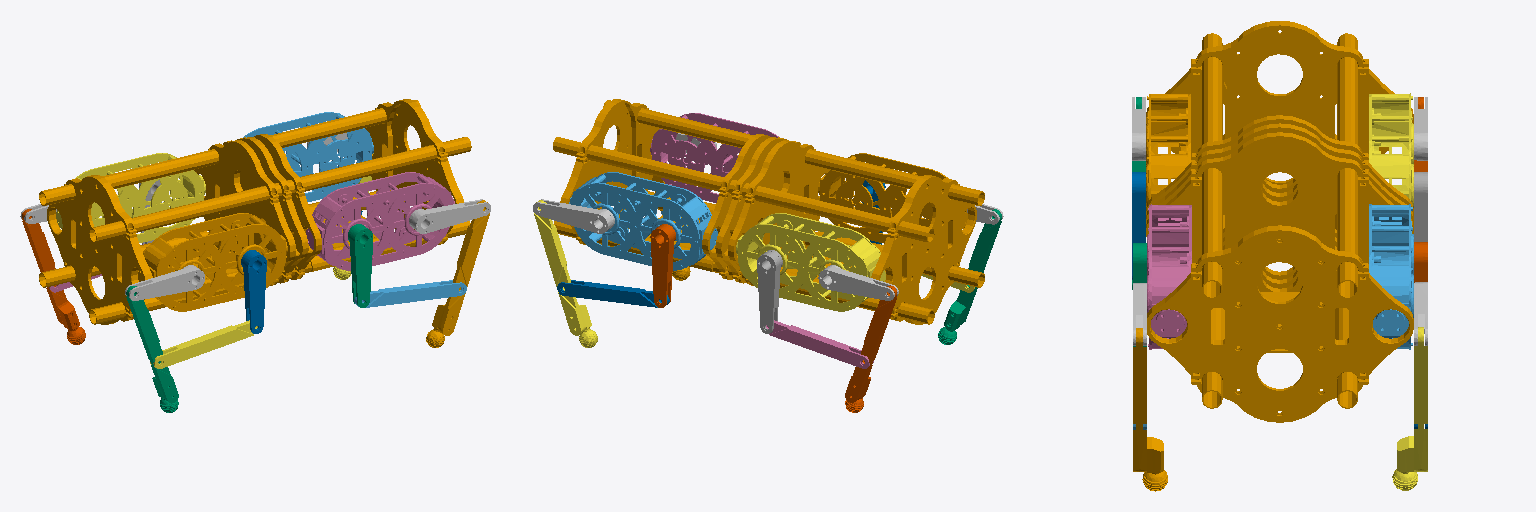
The robot description file, URDF, robot "quadson":
<robot name="quadson" version="1.0">
  <joint name="fl_joint0" type="revolute">
    <limit lower="-3.14000" upper="3.14000" effort="0.00000" velocity="0.00000"/>
    <origin rpy="-0.00000 1.57080 0.00000" xyz="0.20500 0.09541 0.00215"/>
    <parent link="base_link"/>
    <child link="fl_link0"/>
    <axis xyz="0.00000 0.00000 1.00000"/>
  </joint>
  <joint name="fl_joint1" type="revolute">
    <limit lower="-3.14000" upper="3.14000" effort="0.00000" velocity="0.00000"/>
    <origin rpy="-1.57080 -1.57080 0.00000" xyz="-0.00026 0.01767 -0.05190"/>
    <parent link="fl_link0"/>
    <child link="fl_link1"/>
    <axis xyz="0.00000 0.00000 1.00000"/>
  </joint>
  <joint name="fl_joint2" type="revolute">
    <limit lower="-3.14000" upper="3.14000" effort="0.00000" velocity="0.00000"/>
    <origin rpy="-0.00000 0.00000 0.00000" xyz="0.07999 0.00001 0.00825"/>
    <parent link="fl_link1"/>
    <child link="fl_link2"/>
    <axis xyz="0.00000 0.00000 1.00000"/>
  </joint>
  <joint name="fl_joint4" type="revolute">
    <limit lower="-3.14000" upper="3.14000" effort="0.00000" velocity="0.00000"/>
    <origin rpy="-0.00000 0.00000 0.00000" xyz="-0.00001 0.07999 0.00825"/>
    <parent link="fl_link5"/>
    <child link="fl_link4"/>
    <axis xyz="0.00000 0.00000 1.00000"/>
  </joint>
  <joint name="fl_joint5" type="revolute">
    <limit lower="-3.14000" upper="3.14000" effort="0.00000" velocity="0.00000"/>
    <origin rpy="-1.57080 -1.57080 0.00000" xyz="-0.00023 0.01767 -0.13390"/>
    <parent link="fl_link0"/>
    <child link="fl_link5"/>
    <axis xyz="0.00000 0.00000 1.00000"/>
  </joint>
  <joint name="fr_joint0" type="revolute">
    <limit lower="-3.14000" upper="3.14000" effort="0.00000" velocity="0.00000"/>
    <origin rpy="-0.00000 1.57080 0.00000" xyz="0.20500 -0.09380 0.00162"/>
    <parent link="base_link"/>
    <child link="fr_link0"/>
    <axis xyz="0.00000 0.00000 1.00000"/>
  </joint>
  <joint name="fr_joint1" type="revolute">
    <limit lower="-3.14000" upper="3.14000" effort="0.00000" velocity="0.00000"/>
    <origin rpy="-1.57080 -1.57080 0.00000" xyz="-0.00026 -0.01767 -0.05190"/>
    <parent link="fr_link0"/>
    <child link="fr_link1"/>
    <axis xyz="0.00000 0.00000 1.00000"/>
  </joint>
  <joint name="fr_joint2" type="revolute">
    <limit lower="-3.14000" upper="3.14000" effort="0.00000" velocity="0.00000"/>
    <origin rpy="-0.00000 0.00000 0.00000" xyz="0.07999 0.00001 -0.00825"/>
    <parent link="fr_link1"/>
    <child link="fr_link2"/>
    <axis xyz="0.00000 0.00000 1.00000"/>
  </joint>
  <joint name="fr_joint4" type="revolute">
    <limit lower="-3.14000" upper="3.14000" effort="0.00000" velocity="0.00000"/>
    <origin rpy="-0.00000 0.00000 0.00000" xyz="-0.00001 0.07999 -0.00825"/>
    <parent link="fr_link5"/>
    <child link="fr_link4"/>
    <axis xyz="0.00000 0.00000 1.00000"/>
  </joint>
  <joint name="fr_joint5" type="revolute">
    <limit lower="-3.14000" upper="3.14000" effort="0.00000" velocity="0.00000"/>
    <origin rpy="-1.57080 -1.57080 0.00000" xyz="-0.00023 -0.01767 -0.13390"/>
    <parent link="fr_link0"/>
    <child link="fr_link5"/>
    <axis xyz="0.00000 0.00000 1.00000"/>
  </joint>
  <joint name="rl_joint0" type="revolute">
    <limit lower="-3.14000" upper="3.14000" effort="0.00000" velocity="0.00000"/>
    <origin rpy="0.00000 -1.57080 0.00000" xyz="-0.20500 0.09541 0.00215"/>
    <parent link="base_link"/>
    <child link="rl_link0"/>
    <axis xyz="0.00000 0.00000 1.00000"/>
  </joint>
  <joint name="rl_joint1" type="revolute">
    <limit lower="-3.14000" upper="3.14000" effort="0.00000" velocity="0.00000"/>
    <origin rpy="1.57080 1.57080 0.00000" xyz="0.00026 0.01767 -0.05190"/>
    <parent link="rl_link0"/>
    <child link="rl_link1"/>
    <axis xyz="0.00000 0.00000 1.00000"/>
  </joint>
  <joint name="rl_joint2" type="revolute">
    <limit lower="-3.14000" upper="3.14000" effort="0.00000" velocity="0.00000"/>
    <origin rpy="0.00000 0.00000 -0.00000" xyz="-0.07999 -0.00001 -0.00825"/>
    <parent link="rl_link1"/>
    <child link="rl_link2"/>
    <axis xyz="0.00000 0.00000 1.00000"/>
  </joint>
  <joint name="rl_joint4" type="revolute">
    <limit lower="-3.14000" upper="3.14000" effort="0.00000" velocity="0.00000"/>
    <origin rpy="0.00000 0.00000 0.00000" xyz="0.00001 -0.07999 -0.00825"/>
    <parent link="rl_link5"/>
    <child link="rl_link4"/>
    <axis xyz="0.00000 0.00000 1.00000"/>
  </joint>
  <joint name="rl_joint5" type="revolute">
    <limit lower="-3.14000" upper="3.14000" effort="0.00000" velocity="0.00000"/>
    <origin rpy="1.57080 1.57080 0.00000" xyz="0.00023 0.01767 -0.13390"/>
    <parent link="rl_link0"/>
    <child link="rl_link5"/>
    <axis xyz="0.00000 0.00000 1.00000"/>
  </joint>
  <joint name="rr_joint0" type="revolute">
    <limit lower="-3.14000" upper="3.14000" effort="0.00000" velocity="0.00000"/>
    <origin rpy="0.00000 -1.57080 0.00000" xyz="-0.20500 -0.09459 0.00215"/>
    <parent link="base_link"/>
    <child link="rr_link0"/>
    <axis xyz="0.00000 0.00000 1.00000"/>
  </joint>
  <joint name="rr_joint1" type="revolute">
    <limit lower="-3.14000" upper="3.14000" effort="0.00000" velocity="0.00000"/>
    <origin rpy="1.57080 1.57080 0.00000" xyz="0.00011 -0.01748 -0.05170"/>
    <parent link="rr_link0"/>
    <child link="rr_link1"/>
    <axis xyz="0.00000 0.00000 1.00000"/>
  </joint>
  <joint name="rr_joint2" type="revolute">
    <limit lower="-3.14000" upper="3.14000" effort="0.00000" velocity="0.00000"/>
    <origin rpy="0.00000 0.00000 -0.00000" xyz="-0.07999 -0.00001 0.00825"/>
    <parent link="rr_link1"/>
    <child link="rr_link2"/>
    <axis xyz="0.00000 0.00000 1.00000"/>
  </joint>
  <joint name="rr_joint4" type="revolute">
    <limit lower="-3.14000" upper="3.14000" effort="0.00000" velocity="0.00000"/>
    <origin rpy="0.00000 0.00000 -0.00000" xyz="0.00001 -0.07999 0.00825"/>
    <parent link="rr_link5"/>
    <child link="rr_link4"/>
    <axis xyz="0.00000 0.00000 1.00000"/>
  </joint>
  <joint name="rr_joint5" type="revolute">
    <limit lower="-3.14000" upper="3.14000" effort="0.00000" velocity="0.00000"/>
    <origin rpy="1.57080 1.57080 0.00000" xyz="0.00008 -0.01748 -0.13370"/>
    <parent link="rr_link0"/>
    <child link="rr_link5"/>
    <axis xyz="0.00000 0.00000 1.00000"/>
  </joint>
  <link name="base_link">
    <inertial>
      <inertia ixx="0.00315" ixy="0.00000" ixz="0.00000" iyy="0.01903" iyz="-0.00000" izz="0.01944"/>
      <origin rpy="0.00000 0.00000 0.00000" xyz="-0.00001 0.00040 -0.00279"/>
      <mass value="1.00000"/>
    </inertial>
    <visual name="base_link_visual">
      <origin rpy="0.00000 0.00000 0.00000" xyz="0.00000 0.00000 0.00000"/>
      <geometry>
        <mesh filename="../meshes/stl/base_link.stl" scale="1.00000 1.00000 1.00000"/>
      </geometry>
    </visual>
  </link>
  <link name="fl_link0">
    <inertial>
      <inertia ixx="0.00025" ixy="-0.00000" ixz="-0.00002" iyy="0.00147" iyz="0.00000" izz="0.00133"/>
      <origin rpy="0.00000 0.00000 0.00000" xyz="-0.00021 -0.00223 -0.09292"/>
      <mass value="0.50000"/>
    </inertial>
    <visual name="fl_link0_visual">
      <origin rpy="0.00000 -1.57080 0.00000" xyz="0.00000 -0.00000 -0.00000"/>
      <geometry>
        <mesh filename="../meshes/stl/fl_link0.stl" scale="1.00000 1.00000 1.00000"/>
      </geometry>
    </visual>
  </link>
  <link name="fl_link1">
    <inertial>
      <inertia ixx="0.00002" ixy="0.00002" ixz="0.00000" iyy="0.00032" iyz="-0.00000" izz="0.00032"/>
      <origin rpy="0.00000 0.00000 0.00000" xyz="0.02888 0.00002 0.00661"/>
      <mass value="0.30000"/>
    </inertial>
    <visual name="fl_link1_visual">
      <origin rpy="1.57080 0.00000 0.00000" xyz="0.00000 -0.00000 -0.00000"/>
      <material name="leg_linkage"/>
      <geometry>
        <mesh filename="../meshes/stl/fl_link1.stl" scale="1.00000 1.00000 1.00000"/>
      </geometry>
    </visual>
  </link>
  <link name="fl_link2">
    <inertial>
      <inertia ixx="0.00079" ixy="0.00003" ixz="0.00027" iyy="0.00088" iyz="-0.00007" izz="0.00012"/>
      <origin rpy="0.00000 0.00000 0.00000" xyz="-0.03247 0.09410 -0.00380"/>
      <mass value="0.30000"/>
    </inertial>
    <visual name="fl_link2_visual">
      <origin rpy="1.57080 0.00000 0.00000" xyz="0.00000 -0.00000 -0.00000"/>
      <geometry>
        <mesh filename="../meshes/stl/fl_link2.stl" scale="1.00000 1.00000 1.00000"/>
      </geometry>
    </visual>
  </link>
  <link name="fl_link4">
    <inertial>
      <inertia ixx="0.00001" ixy="0.00000" ixz="-0.00005" iyy="0.00049" iyz="0.00000" izz="0.00048"/>
      <origin rpy="0.00000 0.00000 0.00000" xyz="0.06459 0.00733 0.00000"/>
      <mass value="0.30000"/>
    </inertial>
    <visual name="fl_link4_visual">
      <origin rpy="1.57080 0.00000 0.00000" xyz="0.00000 0.00000 0.00000"/>
      <geometry>
        <mesh filename="../meshes/stl/fl_link4.stl" scale="1.00000 1.00000 1.00000"/>
      </geometry>
    </visual>
  </link>
  <link name="fl_link5">
    <inertial>
      <inertia ixx="0.00028" ixy="-0.00000" ixz="0.00000" iyy="0.00028" iyz="0.00002" izz="0.00002"/>
      <origin rpy="0.00000 0.00000 0.00000" xyz="-0.00001 0.02888 0.00661"/>
      <mass value="0.30000"/>
    </inertial>
    <visual name="fl_link5_visual">
      <origin rpy="1.57080 0.00000 0.00000" xyz="0.00000 -0.00000 -0.00000"/>
      <geometry>
        <mesh filename="../meshes/stl/fl_link5.stl" scale="1.00000 1.00000 1.00000"/>
      </geometry>
    </visual>
  </link>
  <link name="fr_link0">
    <inertial>
      <inertia ixx="0.00025" ixy="0.00000" ixz="-0.00002" iyy="0.00147" iyz="-0.00000" izz="0.00133"/>
      <origin rpy="0.00000 0.00000 0.00000" xyz="-0.00021 0.00223 -0.09292"/>
      <mass value="0.50000"/>
    </inertial>
    <visual name="fr_link0_visual">
      <origin rpy="0.00000 -1.57080 0.00000" xyz="-0.00000 -0.00000 0.00000"/>
      <geometry>
        <mesh filename="../meshes/stl/fr_link0.stl" scale="1.00000 1.00000 1.00000"/>
      </geometry>
    </visual>
  </link>
  <link name="fr_link1">
    <inertial>
      <inertia ixx="0.00002" ixy="-0.00002" ixz="0.00000" iyy="0.00032" iyz="0.00000" izz="0.00032"/>
      <origin rpy="0.00000 0.00000 0.00000" xyz="0.02888 0.00002 -0.00661"/>
      <mass value="0.30000"/>
    </inertial>
    <visual name="fr_link1_visual">
      <origin rpy="1.57080 0.00000 0.00000" xyz="0.00000 0.00000 0.00000"/>
      <material name="leg_linkage"/>
      <geometry>
        <mesh filename="../meshes/stl/fr_link1.stl" scale="1.00000 1.00000 1.00000"/>
      </geometry>
    </visual>
  </link>
  <link name="fr_link2">
    <inertial>
      <inertia ixx="0.00079" ixy="-0.00003" ixz="0.00027" iyy="0.00088" iyz="0.00007" izz="0.00012"/>
      <origin rpy="0.00000 0.00000 0.00000" xyz="-0.03247 0.09410 0.00380"/>
      <mass value="0.30000"/>
    </inertial>
    <visual name="fr_link2_visual">
      <origin rpy="1.57080 0.00000 0.00000" xyz="0.00000 -0.00000 -0.00000"/>
      <geometry>
        <mesh filename="../meshes/stl/fr_link2.stl" scale="1.00000 1.00000 1.00000"/>
      </geometry>
    </visual>
  </link>
  <link name="fr_link4">
    <inertial>
      <inertia ixx="0.00001" ixy="-0.00000" ixz="-0.00005" iyy="0.00049" iyz="-0.00000" izz="0.00048"/>
      <origin rpy="0.00000 0.00000 0.00000" xyz="0.06459 0.00733 -0.00000"/>
      <mass value="0.30000"/>
    </inertial>
    <visual name="fr_link4_visual">
      <origin rpy="1.57080 0.00000 0.00000" xyz="0.00000 0.00000 0.00000"/>
      <geometry>
        <mesh filename="../meshes/stl/fr_link4.001.stl" scale="1.00000 1.00000 1.00000"/>
      </geometry>
    </visual>
  </link>
  <link name="fr_link5">
    <inertial>
      <inertia ixx="0.00028" ixy="0.00000" ixz="0.00000" iyy="0.00028" iyz="-0.00002" izz="0.00002"/>
      <origin rpy="0.00000 0.00000 0.00000" xyz="-0.00001 0.02888 -0.00661"/>
      <mass value="0.30000"/>
    </inertial>
    <visual name="fr_link5_visual">
      <origin rpy="1.57080 0.00000 0.00000" xyz="0.00000 -0.00000 -0.00000"/>
      <geometry>
        <mesh filename="../meshes/stl/fr_link5.stl" scale="1.00000 1.00000 1.00000"/>
      </geometry>
    </visual>
  </link>
  <link name="rl_link0">
    <inertial>
      <inertia ixx="0.00025" ixy="0.00000" ixz="0.00002" iyy="0.00147" iyz="0.00000" izz="0.00133"/>
      <origin rpy="0.00000 0.00000 0.00000" xyz="0.00021 -0.00223 -0.09292"/>
      <mass value="0.50000"/>
    </inertial>
    <visual name="rl_link0_visual">
      <origin rpy="-0.00000 1.57080 0.00000" xyz="0.00000 0.00000 0.00000"/>
      <geometry>
        <mesh filename="../meshes/stl/rl_link0.stl" scale="1.00000 1.00000 1.00000"/>
      </geometry>
    </visual>
  </link>
  <link name="rl_link1">
    <inertial>
      <inertia ixx="0.00002" ixy="-0.00002" ixz="-0.00000" iyy="0.00032" iyz="-0.00000" izz="0.00032"/>
      <origin rpy="0.00000 0.00000 0.00000" xyz="-0.02888 -0.00002 -0.00661"/>
      <mass value="0.30000"/>
    </inertial>
    <visual name="rl_link1_visual">
      <origin rpy="-1.57080 0.00000 0.00000" xyz="0.00000 -0.00000 -0.00000"/>
      <material name="leg_linkage"/>
      <geometry>
        <mesh filename="../meshes/stl/rl_link1.stl" scale="1.00000 1.00000 1.00000"/>
      </geometry>
    </visual>
  </link>
  <link name="rl_link2">
    <inertial>
      <inertia ixx="0.00079" ixy="-0.00003" ixz="-0.00027" iyy="0.00088" iyz="-0.00007" izz="0.00012"/>
      <origin rpy="0.00000 0.00000 0.00000" xyz="0.03247 -0.09410 0.00380"/>
      <mass value="0.30000"/>
    </inertial>
    <visual name="rl_link2_visual">
      <origin rpy="-1.57080 0.00000 0.00000" xyz="0.00000 0.00000 -0.00000"/>
      <geometry>
        <mesh filename="../meshes/stl/rl_link2.stl" scale="1.00000 1.00000 1.00000"/>
      </geometry>
    </visual>
  </link>
  <link name="rl_link4">
    <inertial>
      <inertia ixx="0.00001" ixy="-0.00000" ixz="0.00005" iyy="0.00049" iyz="0.00000" izz="0.00048"/>
      <origin rpy="0.00000 0.00000 0.00000" xyz="-0.06459 -0.00733 -0.00000"/>
      <mass value="0.30000"/>
    </inertial>
    <visual name="rl_link4_visual">
      <origin rpy="-1.57080 0.00000 0.00000" xyz="0.00000 -0.00000 -0.00000"/>
      <geometry>
        <mesh filename="../meshes/stl/rl_link4.stl" scale="1.00000 1.00000 1.00000"/>
      </geometry>
    </visual>
  </link>
  <link name="rl_link5">
    <inertial>
      <inertia ixx="0.00028" ixy="0.00000" ixz="-0.00000" iyy="0.00028" iyz="0.00002" izz="0.00002"/>
      <origin rpy="0.00000 0.00000 0.00000" xyz="0.00001 -0.02888 -0.00661"/>
      <mass value="0.30000"/>
    </inertial>
    <visual name="rl_link5_visual">
      <origin rpy="-1.57080 0.00000 0.00000" xyz="0.00000 -0.00000 0.00000"/>
      <geometry>
        <mesh filename="../meshes/stl/rl_link5.stl" scale="1.00000 1.00000 1.00000"/>
      </geometry>
    </visual>
  </link>
  <link name="rr_link0">
    <inertial>
      <inertia ixx="0.00025" ixy="-0.00000" ixz="0.00002" iyy="0.00147" iyz="-0.00000" izz="0.00133"/>
      <origin rpy="0.00000 0.00000 0.00000" xyz="0.00005 0.00242 -0.09273"/>
      <mass value="0.50000"/>
    </inertial>
    <visual name="rr_link0_visual">
      <origin rpy="-0.00000 1.57080 0.00000" xyz="0.00000 0.00000 -0.00000"/>
      <geometry>
        <mesh filename="../meshes/stl/rr_link0.stl" scale="1.00000 1.00000 1.00000"/>
      </geometry>
    </visual>
  </link>
  <link name="rr_link1">
    <inertial>
      <inertia ixx="0.00002" ixy="0.00002" ixz="-0.00000" iyy="0.00032" iyz="0.00000" izz="0.00032"/>
      <origin rpy="0.00000 0.00000 0.00000" xyz="-0.02888 -0.00002 0.00661"/>
      <mass value="0.30000"/>
    </inertial>
    <visual name="rr_link1_visual">
      <origin rpy="-1.57080 0.00000 0.00000" xyz="-0.00000 -0.00000 -0.00000"/>
      <material name="leg_linkage"/>
      <geometry>
        <mesh filename="../meshes/stl/rr_link1.stl" scale="1.00000 1.00000 1.00000"/>
      </geometry>
    </visual>
  </link>
  <link name="rr_link2">
    <inertial>
      <inertia ixx="0.00079" ixy="0.00003" ixz="-0.00027" iyy="0.00088" iyz="0.00007" izz="0.00012"/>
      <origin rpy="0.00000 0.00000 0.00000" xyz="0.03247 -0.09410 -0.00380"/>
      <mass value="0.30000"/>
    </inertial>
    <visual name="rr_link2_visual">
      <origin rpy="-1.57080 0.00000 0.00000" xyz="0.00000 0.00000 -0.00000"/>
      <geometry>
        <mesh filename="../meshes/stl/rr_link2.stl" scale="1.00000 1.00000 1.00000"/>
      </geometry>
    </visual>
  </link>
  <link name="rr_link4">
    <inertial>
      <inertia ixx="0.00001" ixy="0.00000" ixz="0.00005" iyy="0.00049" iyz="-0.00000" izz="0.00048"/>
      <origin rpy="0.00000 0.00000 0.00000" xyz="-0.06459 -0.00733 0.00000"/>
      <mass value="0.30000"/>
    </inertial>
    <visual name="rr_link4_visual">
      <origin rpy="-1.57080 0.00000 0.00000" xyz="0.00000 -0.00000 -0.00000"/>
      <geometry>
        <mesh filename="../meshes/stl/rr_link4.stl" scale="1.00000 1.00000 1.00000"/>
      </geometry>
    </visual>
  </link>
  <link name="rr_link5">
    <inertial>
      <inertia ixx="0.00028" ixy="-0.00000" ixz="-0.00000" iyy="0.00028" iyz="-0.00002" izz="0.00002"/>
      <origin rpy="0.00000 0.00000 0.00000" xyz="0.00001 -0.02888 0.00661"/>
      <mass value="0.30000"/>
    </inertial>
    <visual name="rr_link5_visual">
      <origin rpy="-1.57080 0.00000 0.00000" xyz="0.00000 0.00000 -0.00000"/>
      <geometry>
        <mesh filename="../meshes/stl/rr_link5.stl" scale="1.00000 1.00000 1.00000"/>
      </geometry>
    </visual>
  </link>
  <material name="leg_linkage">
    <color rgba="0.80000 0.80000 0.80000 1.00000"/>
  </material>
</robot>

--- Render facts (derived) ---
Views: 3 orthographic renders of the robot side by side, from view 1: azimuth 30°, elevation 25°; view 2: azimuth 150°, elevation 25°; view 3: azimuth 270°, elevation 25°.
Model quadson with 21 links and 20 joints (20 revolute), rooted at base_link, posed every joint at zero.
Visible links, largest first — view 1: base_link, fr_link0, rr_link0, rl_link0, fl_link0, fr_link2, rr_link2, rl_link2, rr_link4, fr_link5, rr_link5, fr_link1 (+2 smaller); view 2: base_link, fl_link0, rl_link0, rr_link0, fr_link0, fl_link2, rl_link2, rr_link2, rl_link4, fl_link5, rl_link5, fl_link1 (+2 smaller); view 3: base_link, fl_link0, fr_link0, rl_link0, rr_link0, fl_link2, fr_link2, rr_link5, rl_link5, rr_link1, rl_link1, fl_link1 (+3 smaller).
Boxes of the visible links, x1,y1,x2,y2 form: base_link: (39, 99, 471, 324); fr_link0: (306, 172, 454, 270); rr_link0: (138, 213, 287, 311); rl_link0: (56, 153, 205, 242); fl_link0: (243, 112, 373, 201); fr_link2: (426, 200, 489, 347); rr_link2: (126, 286, 178, 412); rl_link2: (22, 209, 85, 344); rr_link4: (150, 320, 257, 368); fr_link5: (348, 224, 372, 307); rr_link5: (241, 250, 266, 333); fr_link1: (409, 199, 490, 233); base_link: (553, 99, 984, 324); fl_link0: (569, 172, 717, 270); rl_link0: (736, 213, 885, 311); rr_link0: (818, 153, 967, 243); fr_link0: (650, 113, 778, 202); fl_link2: (534, 200, 597, 347); rl_link2: (845, 285, 896, 412); rr_link2: (938, 209, 1001, 344); rl_link4: (766, 320, 873, 368); fl_link5: (650, 224, 675, 307); rl_link5: (757, 250, 782, 333); fl_link1: (533, 199, 614, 233); base_link: (1146, 21, 1413, 422); fl_link0: (1369, 204, 1413, 349); fr_link0: (1147, 204, 1191, 349); rl_link0: (1369, 93, 1413, 207); rr_link0: (1146, 94, 1190, 206); fl_link2: (1392, 327, 1427, 490); fr_link2: (1133, 328, 1167, 491); rr_link5: (1132, 172, 1145, 279); rl_link5: (1414, 172, 1427, 241); rr_link1: (1132, 97, 1145, 160); rl_link1: (1414, 97, 1427, 160); fl_link1: (1414, 282, 1427, 345).
Bounding box of the posed robot: 0.5 × 0.2537 × 0.2619 m (x, y, z).
21 mesh visuals loaded from 21 distinct referenced files (21 binary STL).